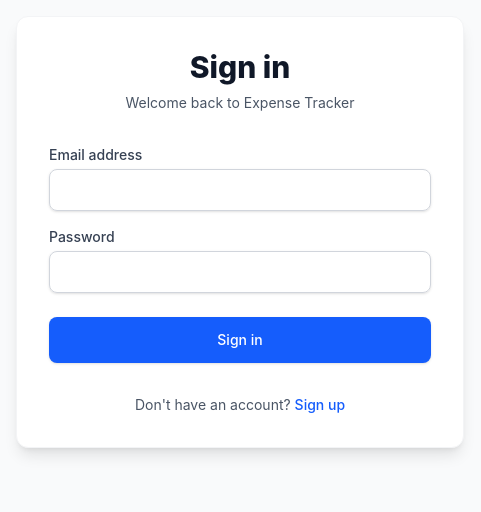
Test: Login Component › shows server error message on login failure
Type "wrong@example.com" into the field labelled "Email address" at (240, 190), box [49,169,431,211]
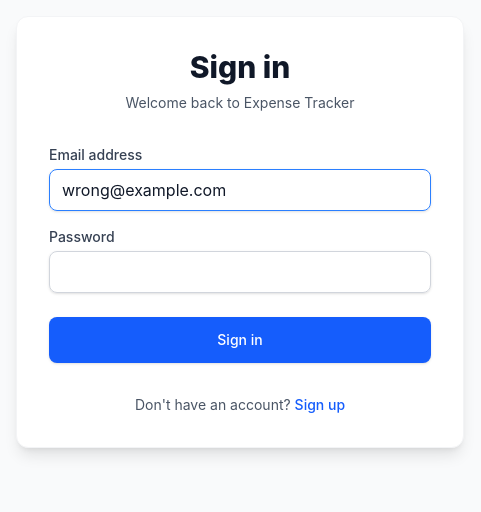
Type "wrongpass" into the password field labelled "Password" at (240, 272), box [49,251,431,293]
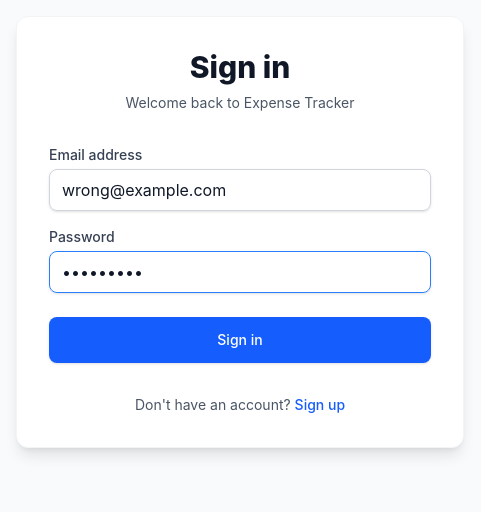
Click the button "Sign in" at (240, 340), box [49,317,431,363]
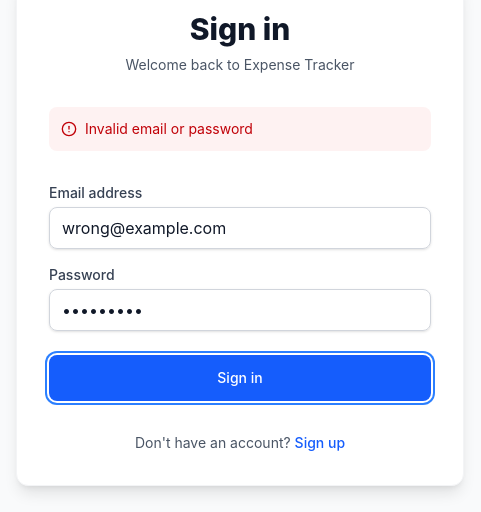
Expected: the text "Invalid email or password" is shown, [49,107,431,151]
